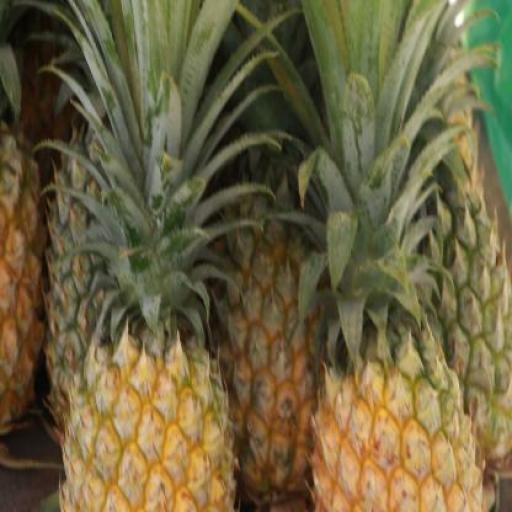Pineapple - v8 v1: (69, 342, 235, 511), (314, 359, 480, 512)
